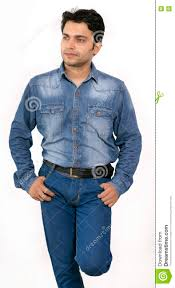Indian_Male: (57, 4, 105, 70)
